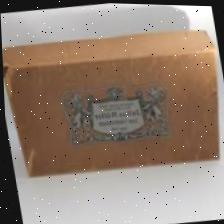cardboard: (0, 3, 224, 202)
